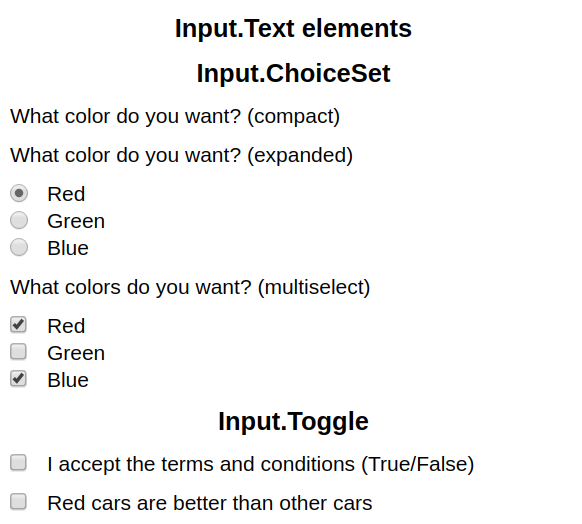checkbox: (6, 448, 478, 479), (7, 489, 376, 515), (9, 310, 105, 336), (10, 340, 106, 364), (7, 368, 97, 390)
radio_button: (5, 178, 101, 206), (5, 210, 108, 234), (7, 236, 102, 259)
textbox: (8, 272, 375, 301), (7, 140, 360, 169), (8, 102, 341, 127), (173, 12, 416, 43), (193, 58, 398, 88), (214, 406, 378, 436)
